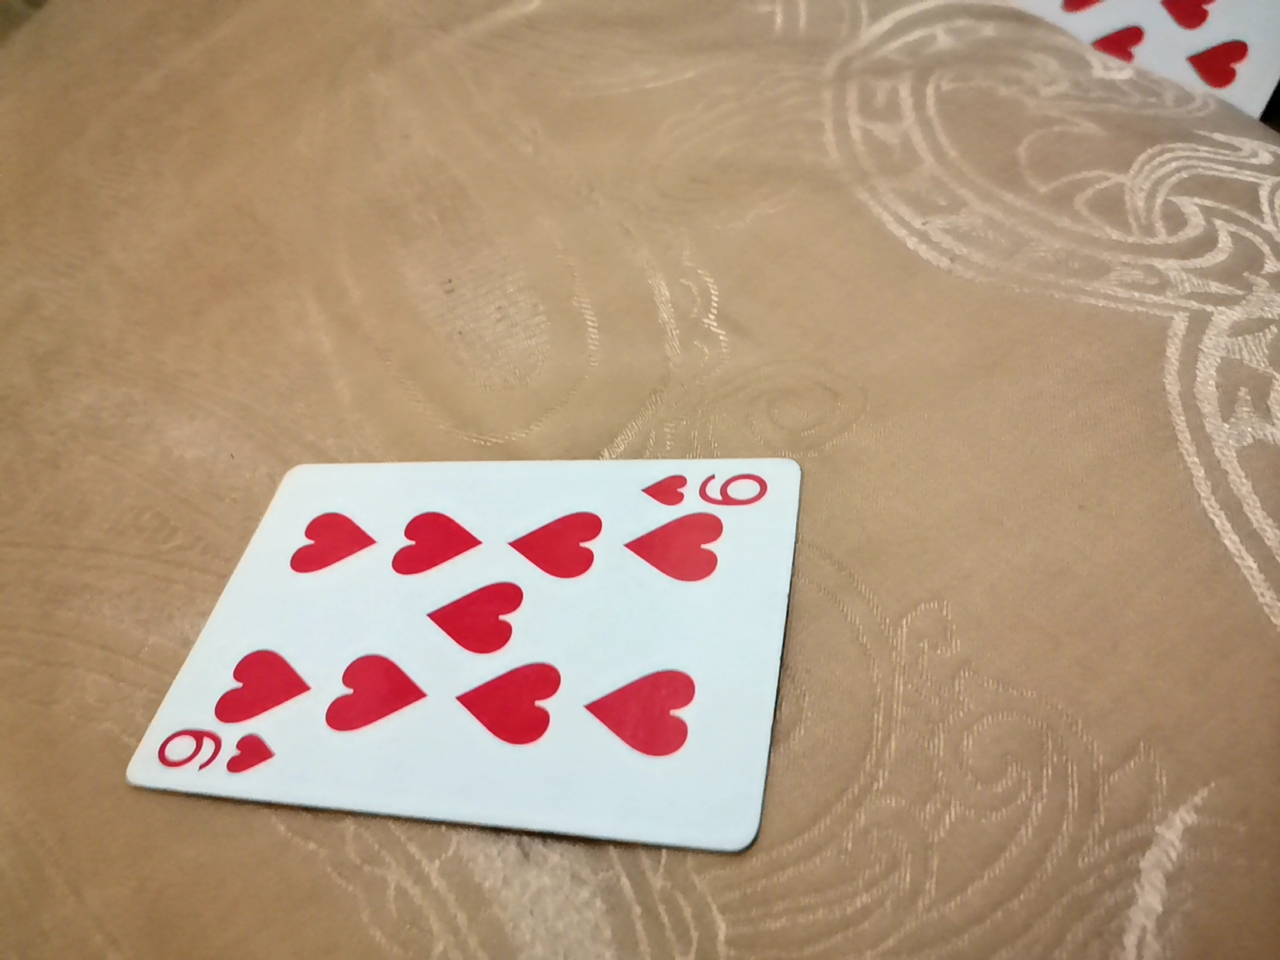hx 9: (140, 449, 800, 848)
